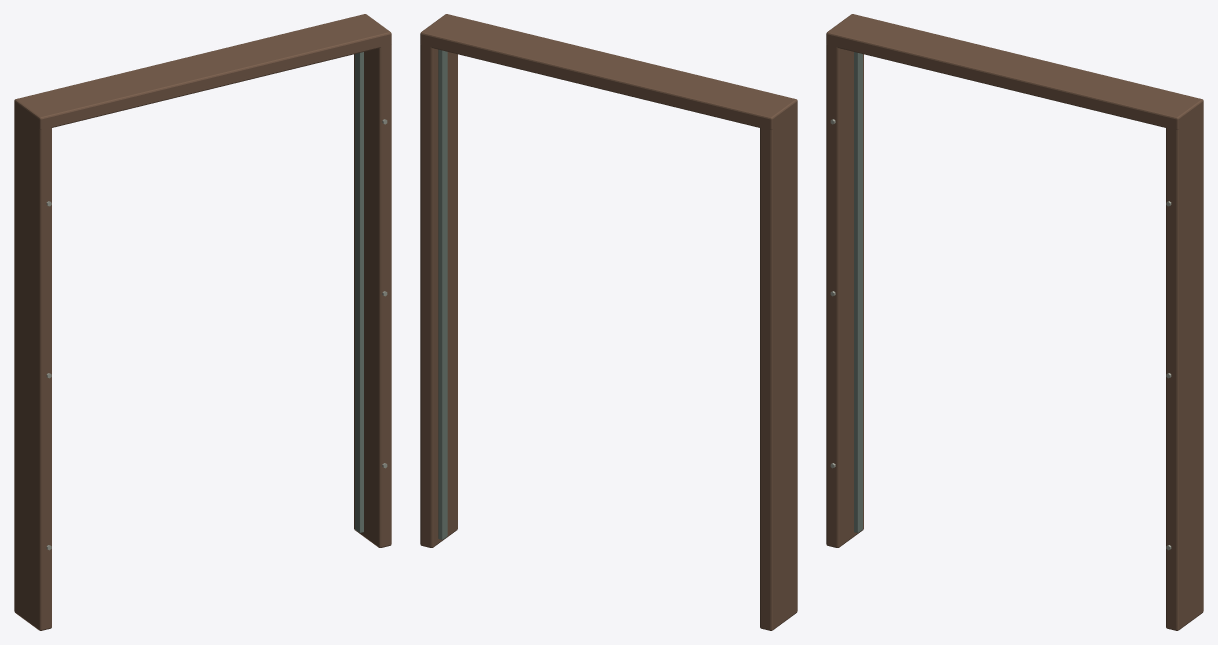
The model's file is door_frame.glb.
The picture shows the model from 3 angles, left to right: view 1: azimuth 30°, elevation 25°; view 2: azimuth 150°, elevation 25°; view 3: azimuth 330°, elevation 25°; orthographic projection.
Parts seen in each view (by area): view 1: door_frame; view 2: door_frame; view 3: door_frame.
Boxes of the visible parts, x1,y1,x2,y2 form: door_frame: (14, 14, 391, 630); door_frame: (420, 14, 797, 630); door_frame: (826, 14, 1203, 630).
Size of the model in its own units: 1.93 by 2.69 by 0.264.
